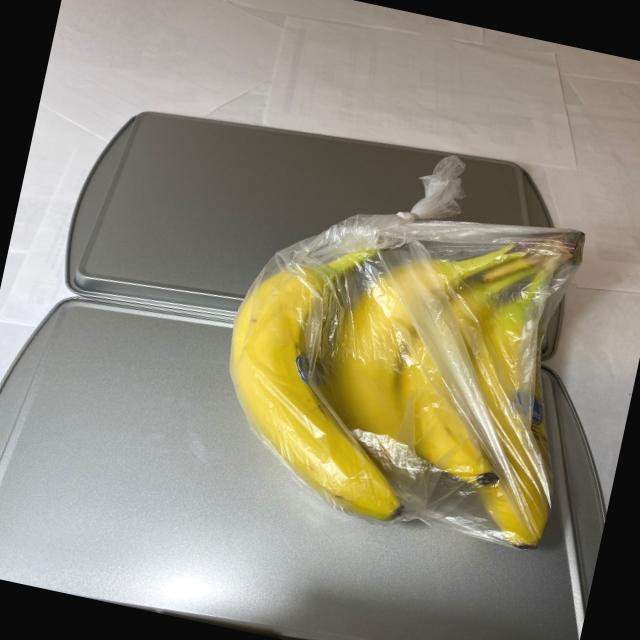banana: (195, 161, 618, 586)
